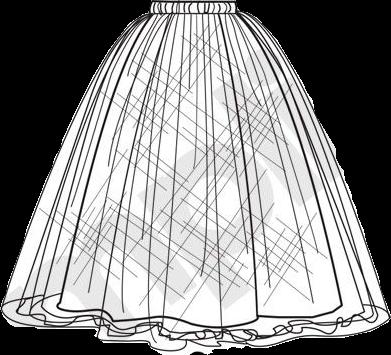Hemline: (0, 304, 390, 354)
Waistline: (148, 10, 238, 15), (151, 0, 236, 3)
